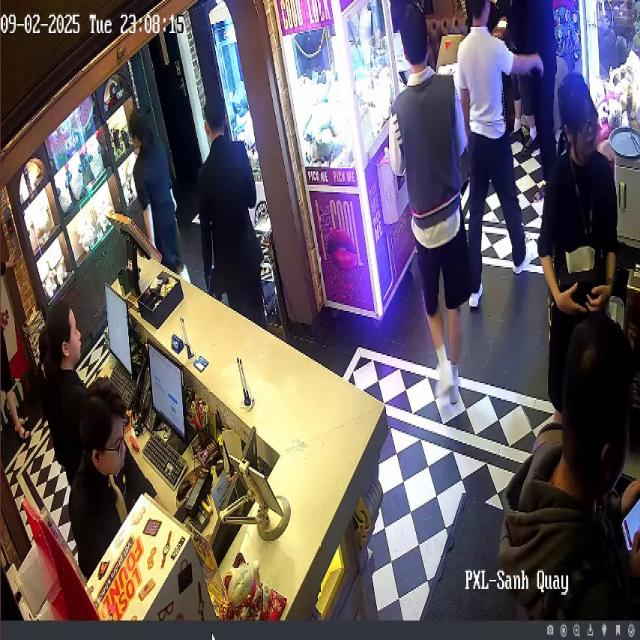khach: (498, 312, 640, 620), (386, 2, 471, 412), (460, 4, 544, 310), (499, 0, 542, 159)
nhan vien: (537, 72, 617, 430), (194, 87, 264, 339), (125, 101, 193, 292), (70, 374, 126, 586), (42, 297, 90, 494), (0, 243, 34, 453)
